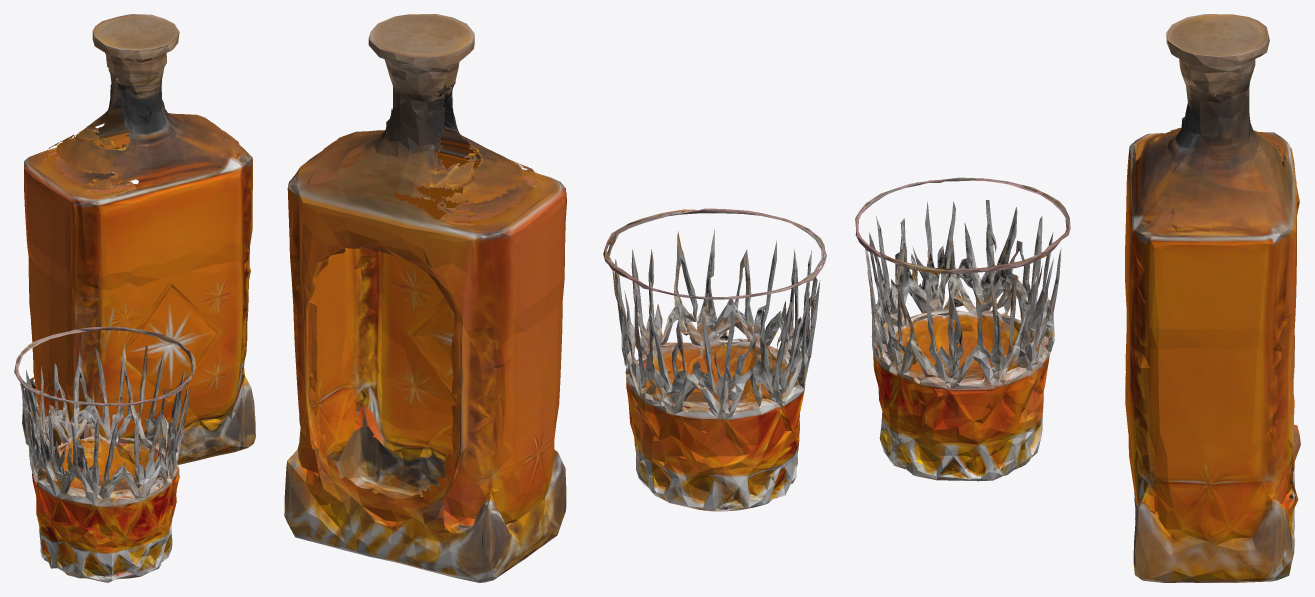
File: whiskey_bottle_with_a_cup_of_whiskey.glb
3 views of the same model, side by side, from view 1: azimuth 30°, elevation 25°; view 2: azimuth 150°, elevation 25°; view 3: azimuth 270°, elevation 25° (orthographic). The views are drawn at different scales.
Parts seen in each view (by area): view 1: Object_2; view 2: Object_2; view 3: Object_2.
Part boxes in pixels (x1=…): Object_2: x1=14, y1=14, x2=255, y2=582; Object_2: x1=284, y1=14, x2=826, y2=582; Object_2: x1=855, y1=14, x2=1300, y2=582.
Bounding box in the file's own units: 1.56 × 2 × 1.62.
Materials: 1 (1 with a texture image).
